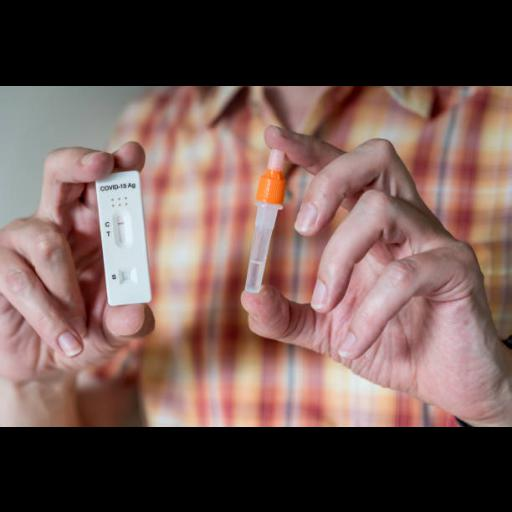Neg: (96, 171, 153, 303)
